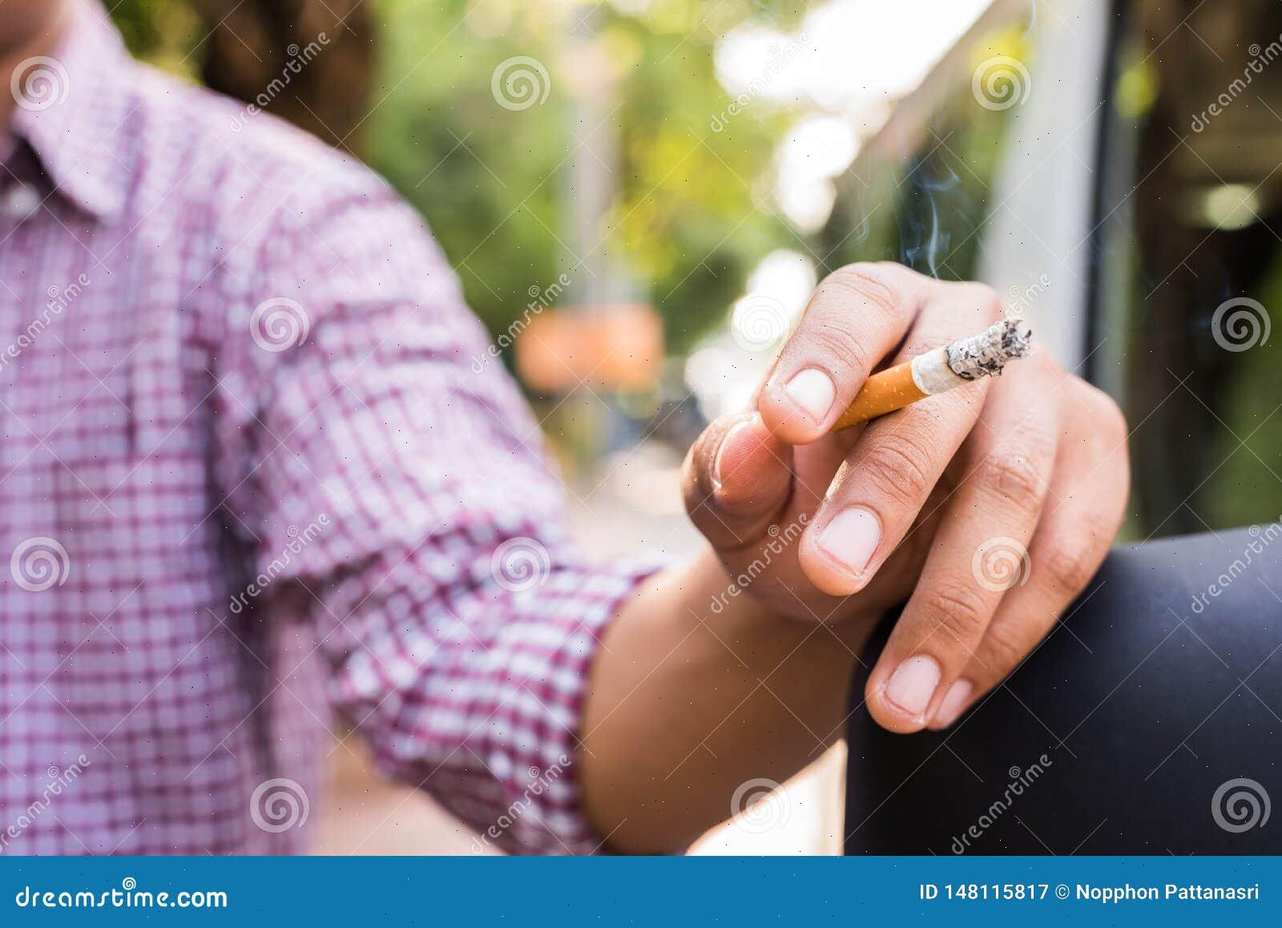cigarette: (831, 320, 1030, 430)
